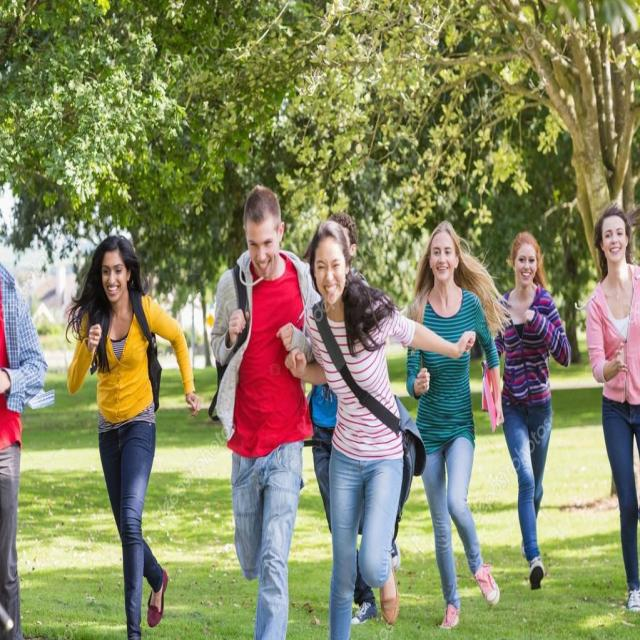body: (282, 222, 478, 639), (61, 227, 204, 639), (209, 183, 322, 640), (406, 220, 511, 630), (306, 209, 404, 628), (482, 223, 574, 592), (573, 197, 639, 618), (0, 253, 56, 639)
